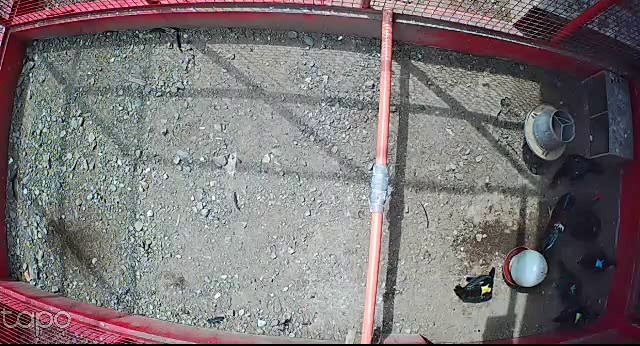Chicken: (547, 150, 603, 192), (549, 299, 601, 334), (453, 265, 497, 305), (554, 258, 584, 305), (574, 247, 617, 277)
Drinker: (501, 246, 549, 288)
Feeder: (523, 103, 577, 160)
Rooster: (542, 186, 583, 253)
Saddle_Color_Blue: (595, 259, 604, 267)
Saddle_Color_Yellow: (482, 283, 490, 295)
